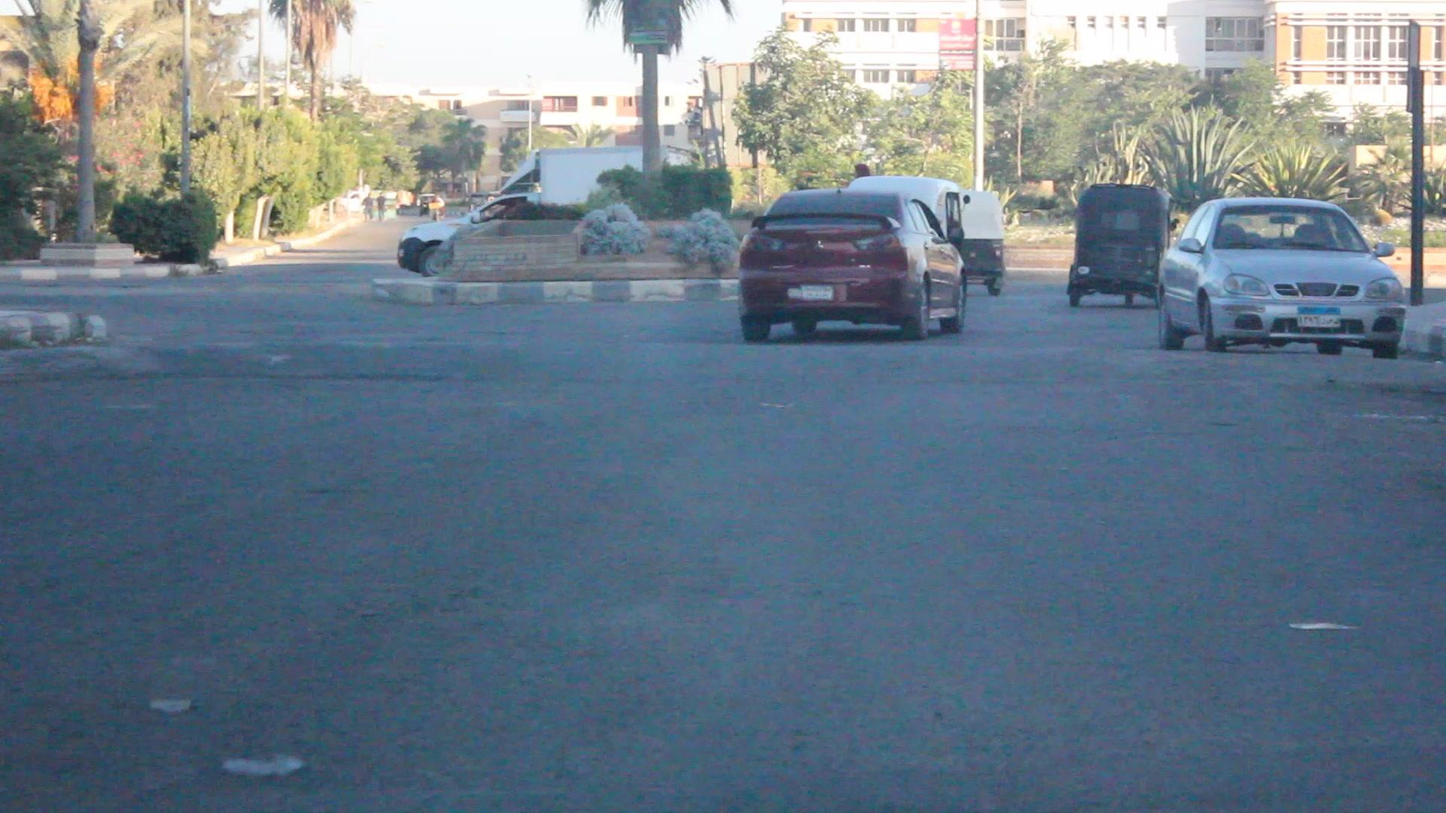Bump: (32, 337, 1444, 425)
